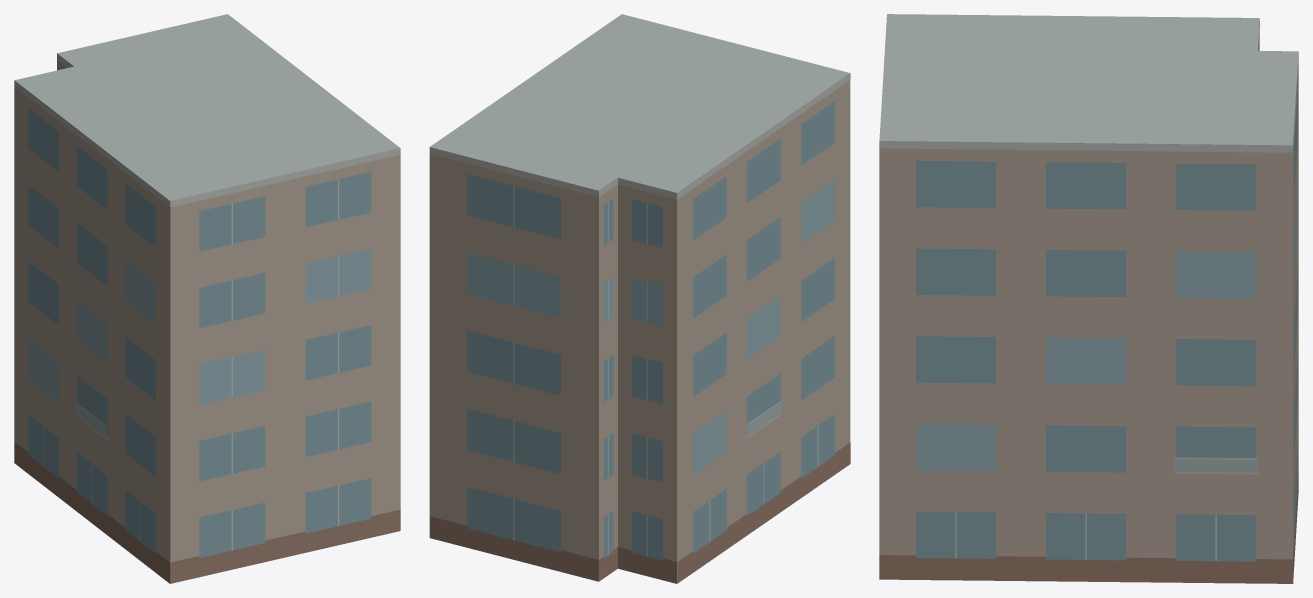
The model's file is survey-upis-32974470.glb.
3 renders of one model, left to right at view 1: azimuth 30°, elevation 25°; view 2: azimuth 150°, elevation 25°; view 3: azimuth 270°, elevation 25°, orthographic. The views are drawn at different scales.
Visible parts, largest first — view 1: survey-upis-32974470.tmp; view 2: survey-upis-32974470.tmp; view 3: survey-upis-32974470.tmp.
Part boxes in pixels (left/top/right/bottom): survey-upis-32974470.tmp: left=14, top=14, right=400, bottom=583; survey-upis-32974470.tmp: left=429, top=14, right=850, bottom=583; survey-upis-32974470.tmp: left=879, top=14, right=1298, bottom=583.
Bounding box in the file's own units: 9.26 × 14.4 × 12.49.
